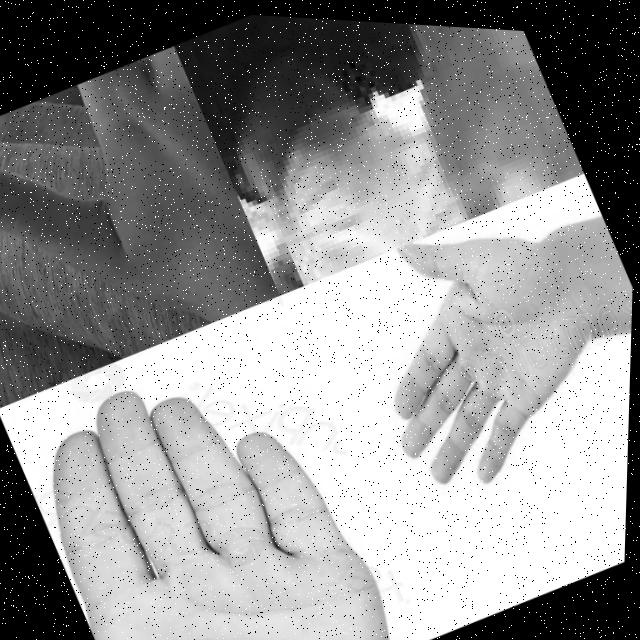hand: (5, 315, 417, 640), (0, 35, 286, 421), (325, 173, 636, 511), (344, 16, 588, 233)
